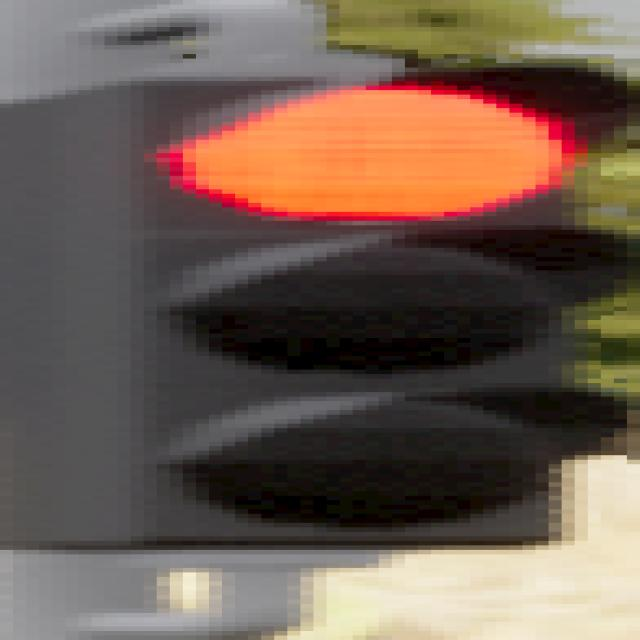red_light: (1, 52, 640, 555)
